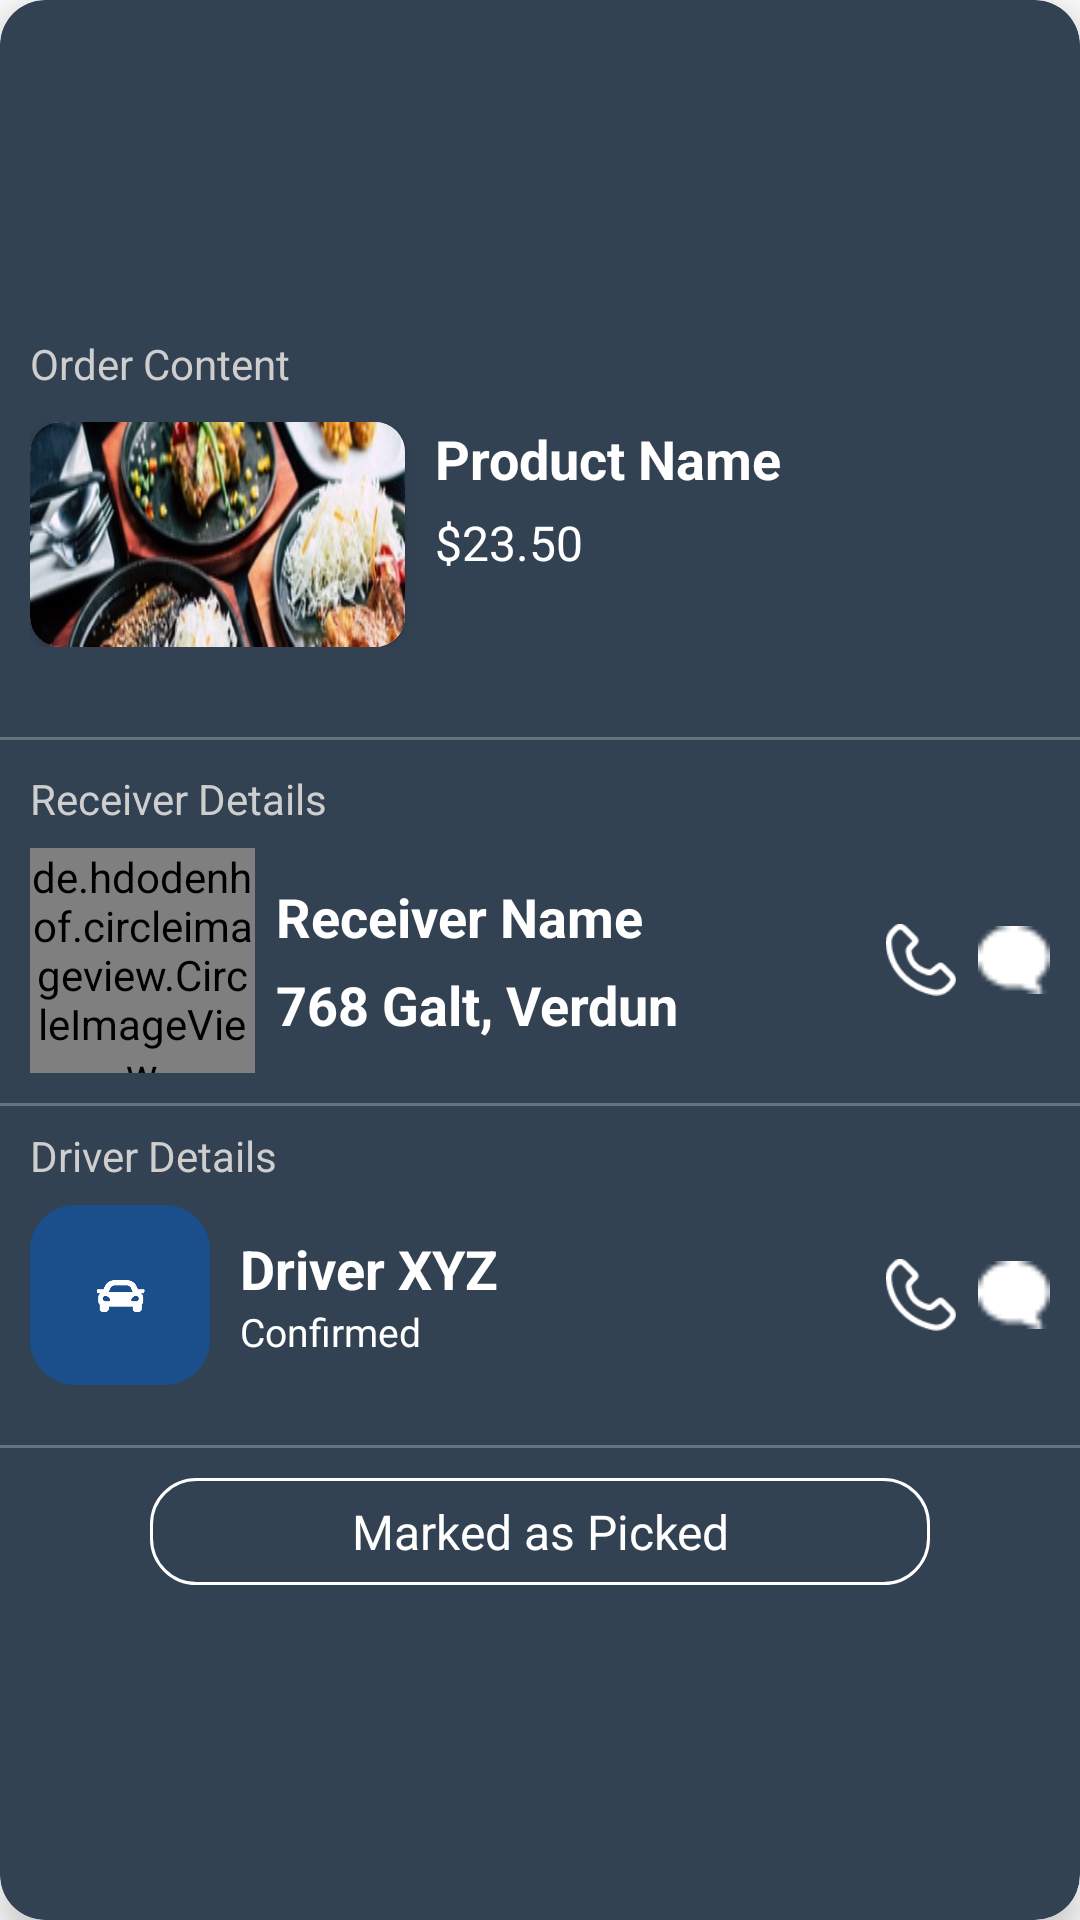

Icon click points for this 1080px x 1920px phone screenshot, format point (x, y):
car: point (121, 1296)
message: point (1014, 960), point (1014, 1295)
phone: point (921, 960), point (921, 1295)
